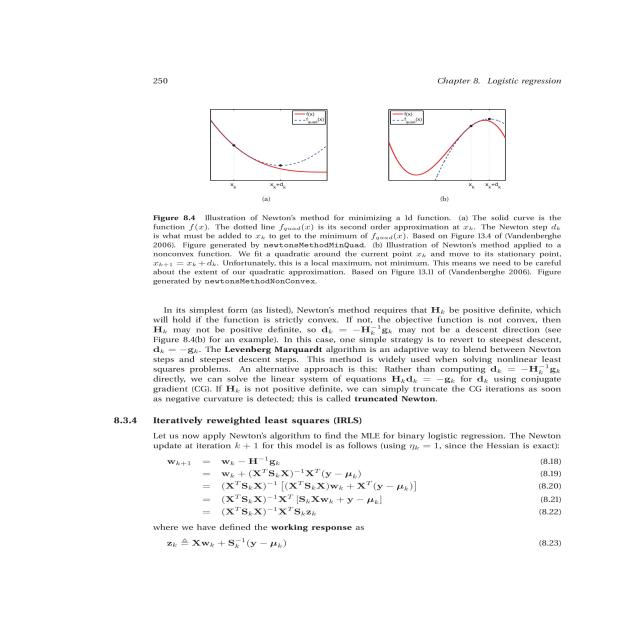diagram: (127, 91, 588, 288)
